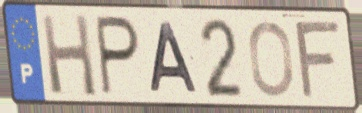2: (198, 16, 245, 101)
A: (147, 20, 201, 95)
F: (292, 19, 343, 102)
H: (38, 12, 100, 100)
O: (247, 19, 296, 99)
P: (93, 13, 142, 99)
